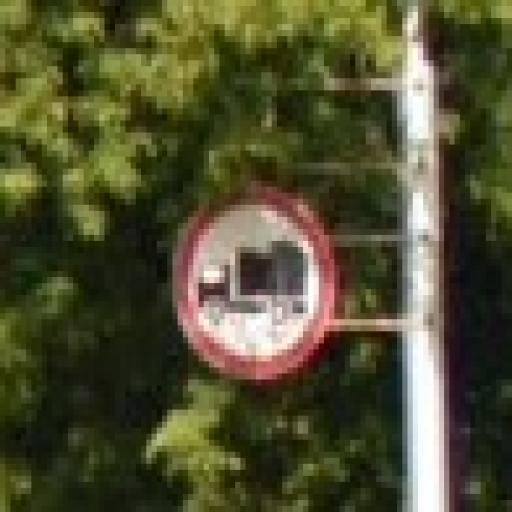traffic_sign: (174, 182, 341, 387)
